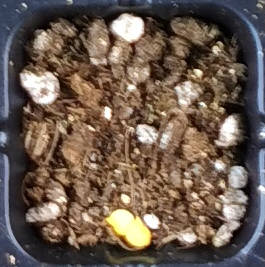chilli seed: (107, 209, 133, 234), (132, 214, 151, 247)
